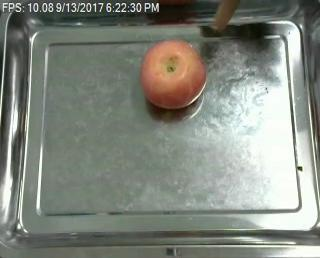apple: (141, 40, 208, 109)
